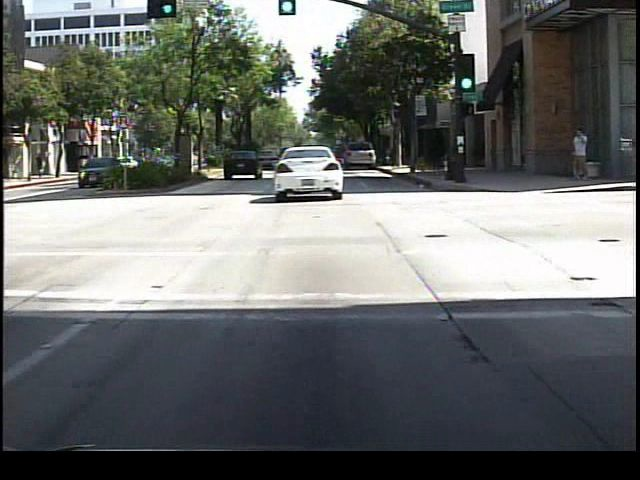person: (567, 126, 592, 183), (34, 152, 50, 186)
